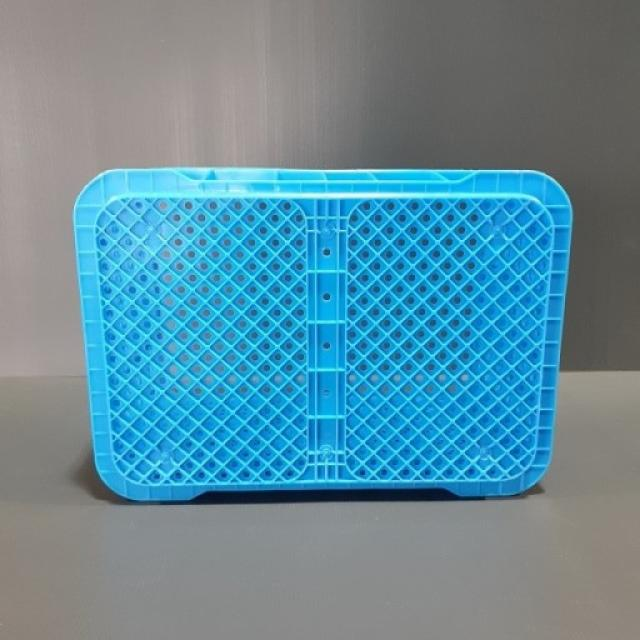basket: (73, 162, 578, 503)
